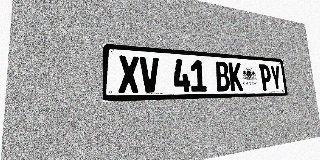1: (189, 60, 207, 92)
4: (173, 59, 191, 92)
B: (215, 61, 230, 91)
K: (228, 62, 243, 91)
P: (259, 64, 272, 91)
V: (140, 57, 160, 93)
X: (118, 55, 140, 93)
Y: (269, 65, 282, 90)
